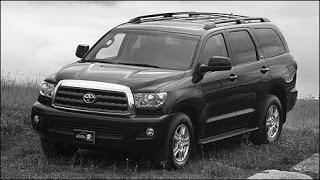car: (31, 9, 302, 169)
